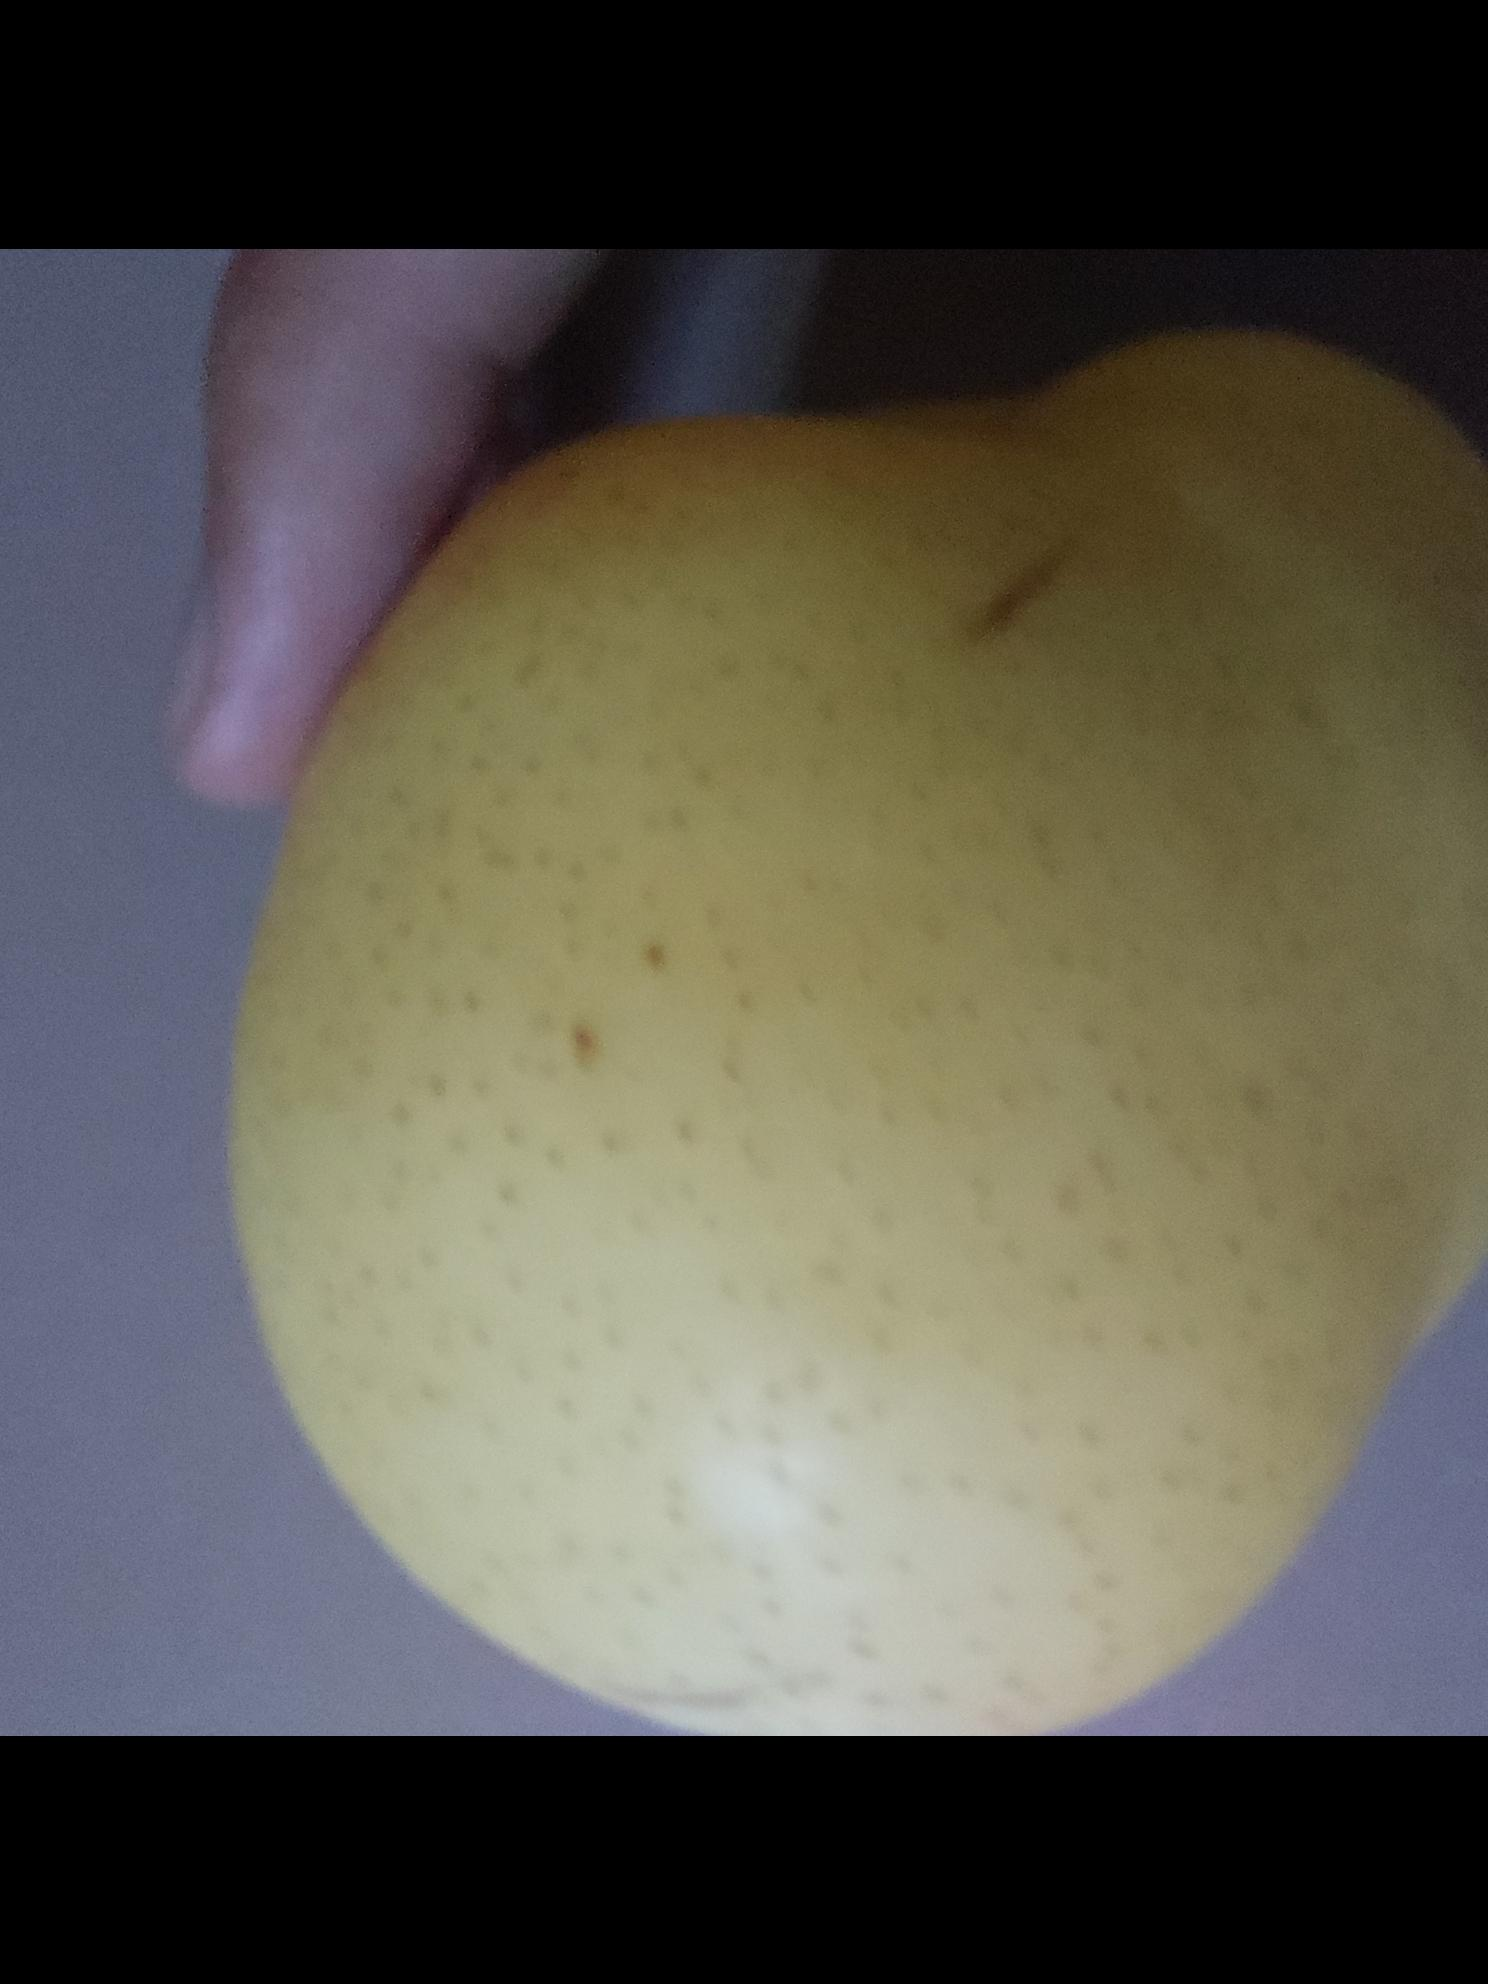Good Pear: (220, 320, 1488, 1736)
